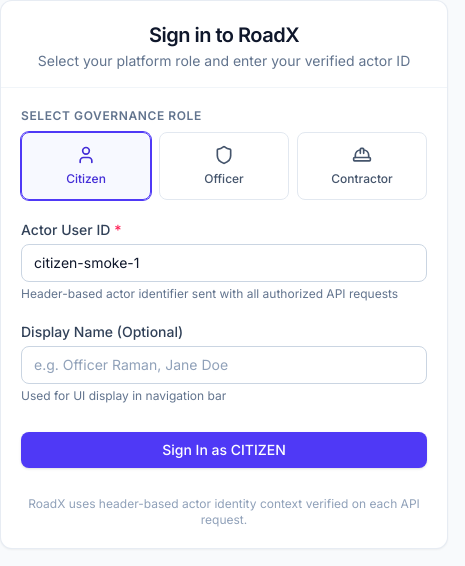
Test: LoginForm Component › validates that user ID is required when cleared
Step 1. Clear the field labelled "Actor User ID*" → (224, 263), box [21,244,427,282]
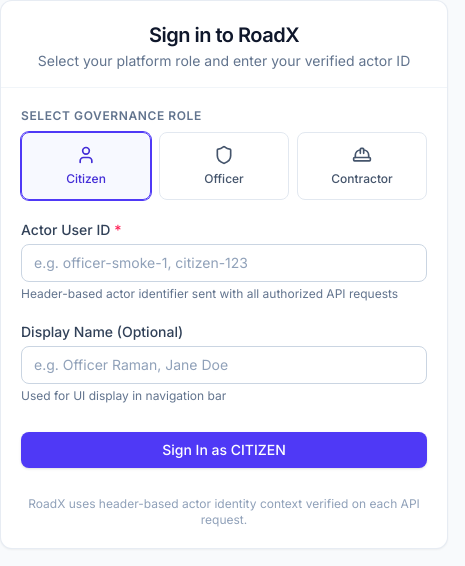
Step 2. Click the button "Sign In as CITIZEN" → (224, 450), box [21,432,427,468]
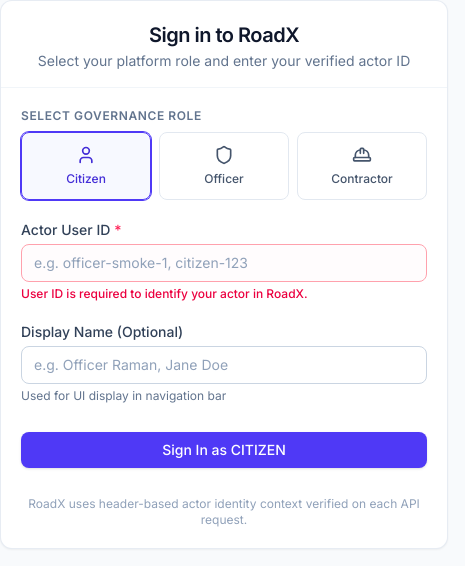
Result: the text "User ID is required to identify your actor in RoadX." is shown at [21,286,308,301]
